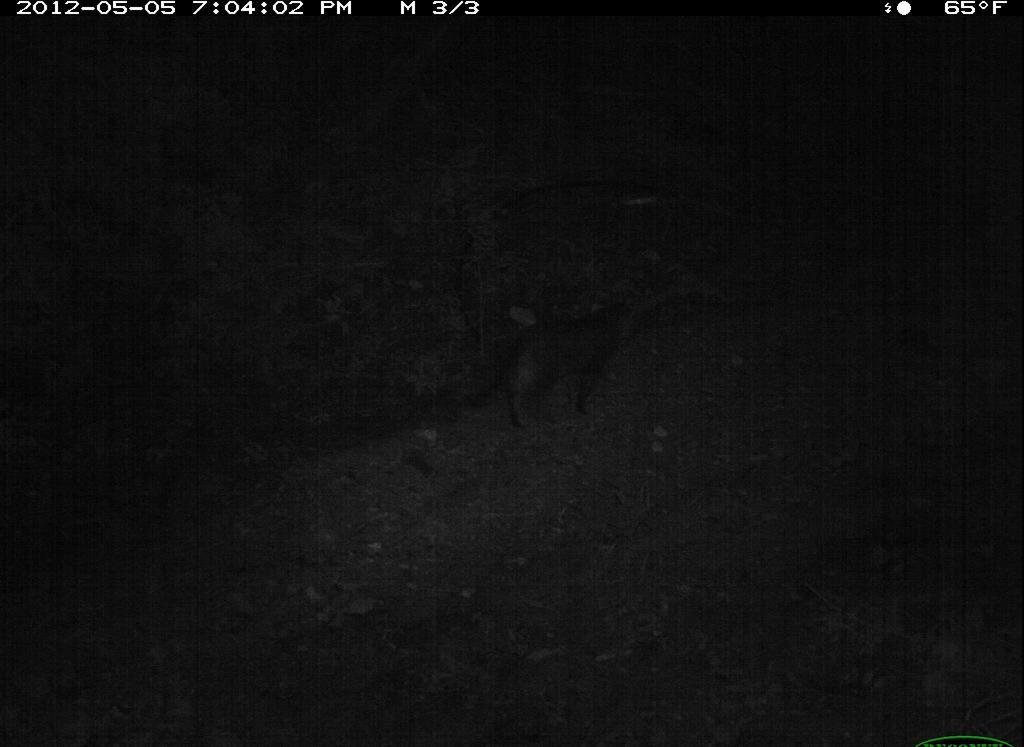cat: (434, 273, 642, 451)
